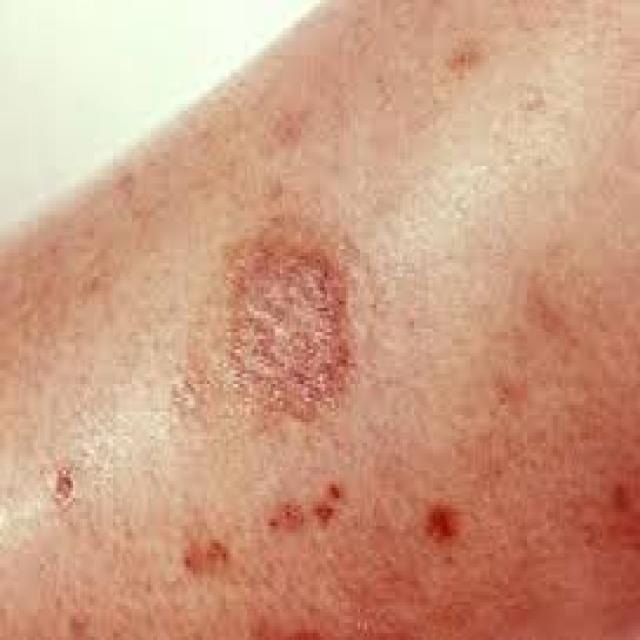kene: (199, 221, 379, 413)
